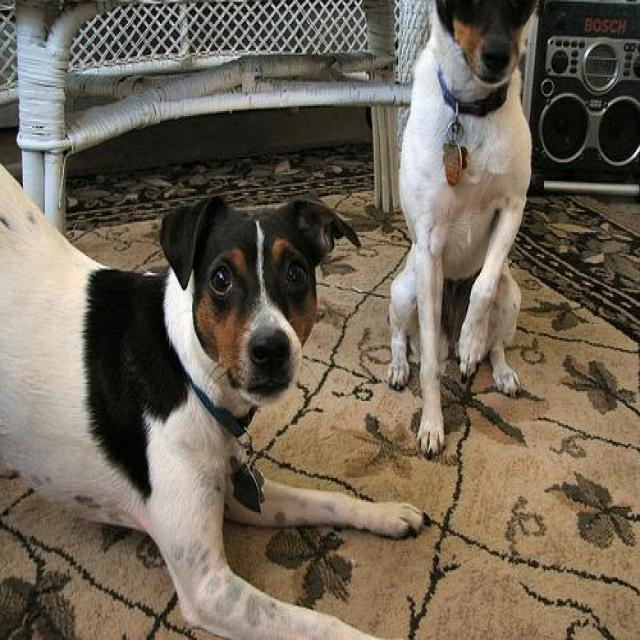toy_terrier: (0, 162, 430, 638), (385, 0, 535, 454)
